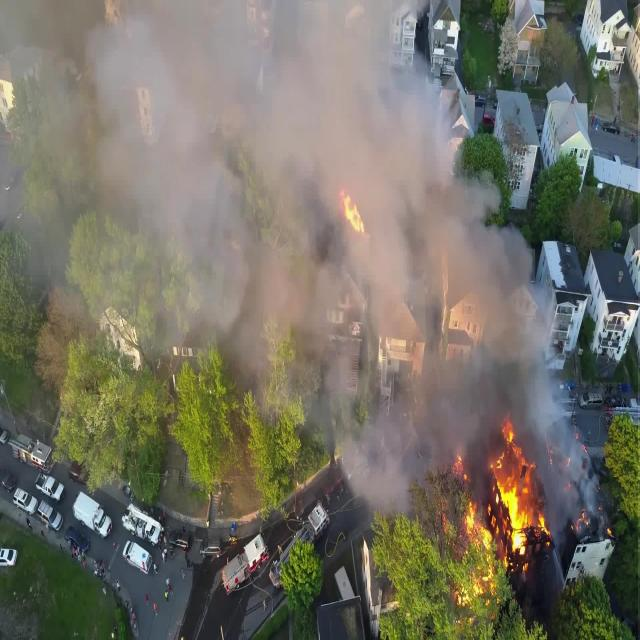Fire: (449, 427, 552, 615)
Smoke: (0, 0, 638, 640)
